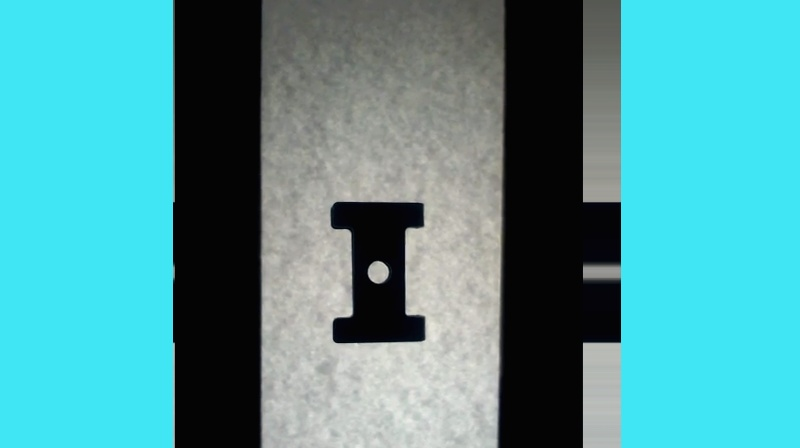O002: (327, 198, 426, 348)
